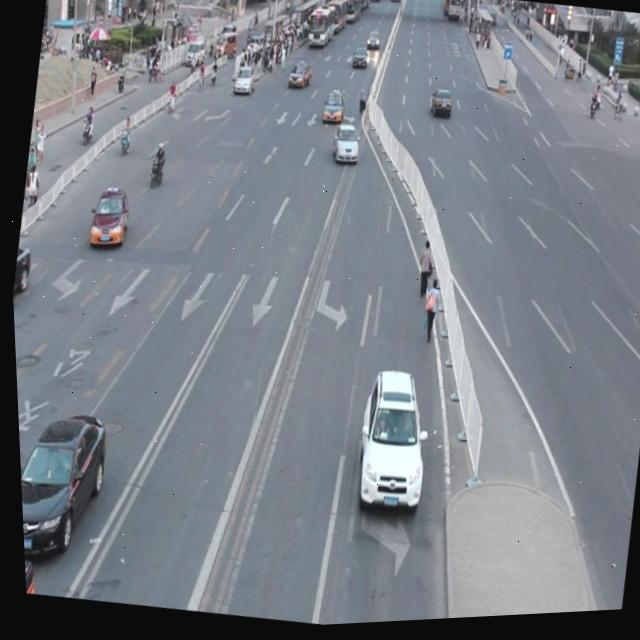car: (14, 398, 112, 567), (342, 363, 436, 519), (84, 183, 131, 252), (327, 123, 362, 171), (8, 239, 35, 301), (19, 545, 34, 594)
